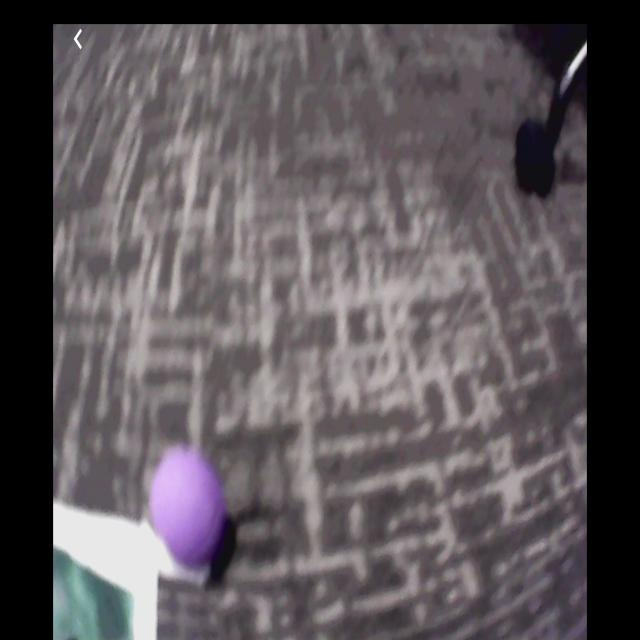ball: (148, 443, 228, 573)
